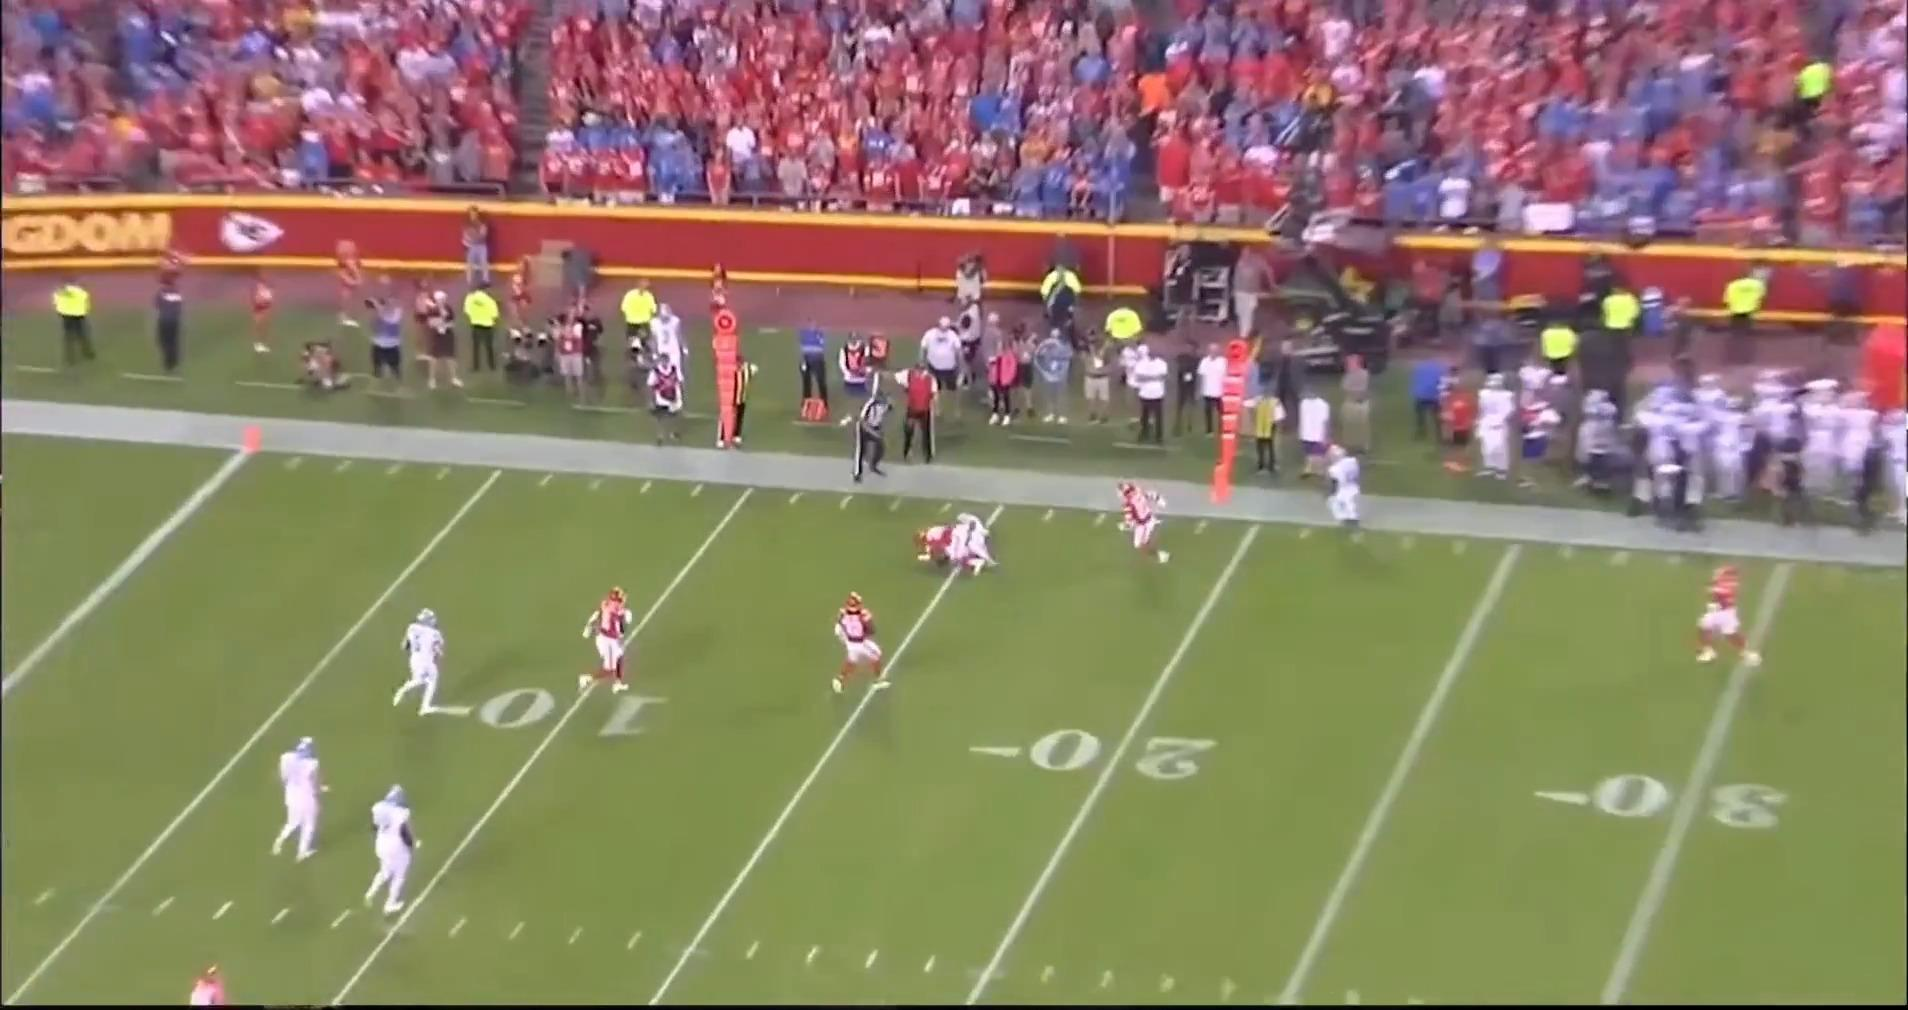player: (1685, 566, 1758, 678), (267, 736, 328, 869), (371, 778, 427, 915), (571, 587, 632, 703), (395, 609, 455, 720), (828, 595, 891, 699), (912, 520, 991, 594), (1116, 475, 1175, 567), (1320, 443, 1368, 541), (950, 506, 998, 554)
ref: (849, 392, 898, 492)
